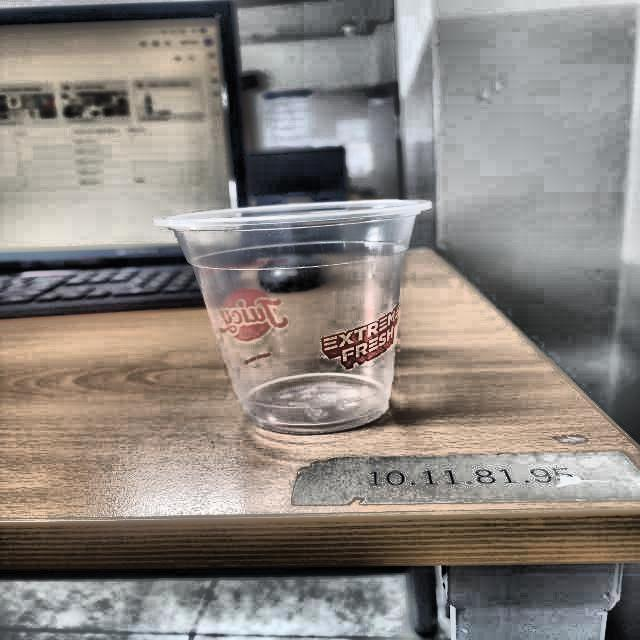plastic cup: (154, 196, 436, 432)
